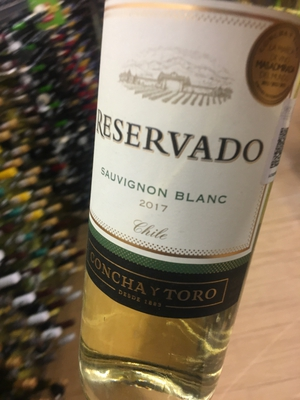reservado sauvignon blanc: (86, 3, 300, 391)
